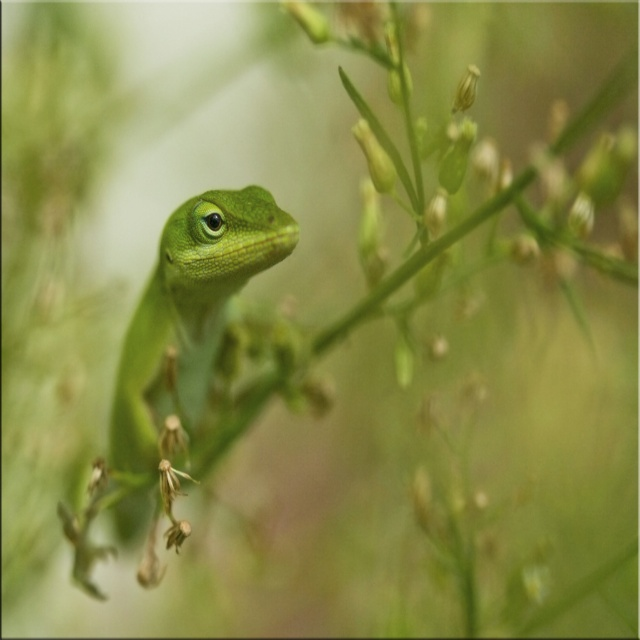Lizard: (57, 185, 309, 599)
